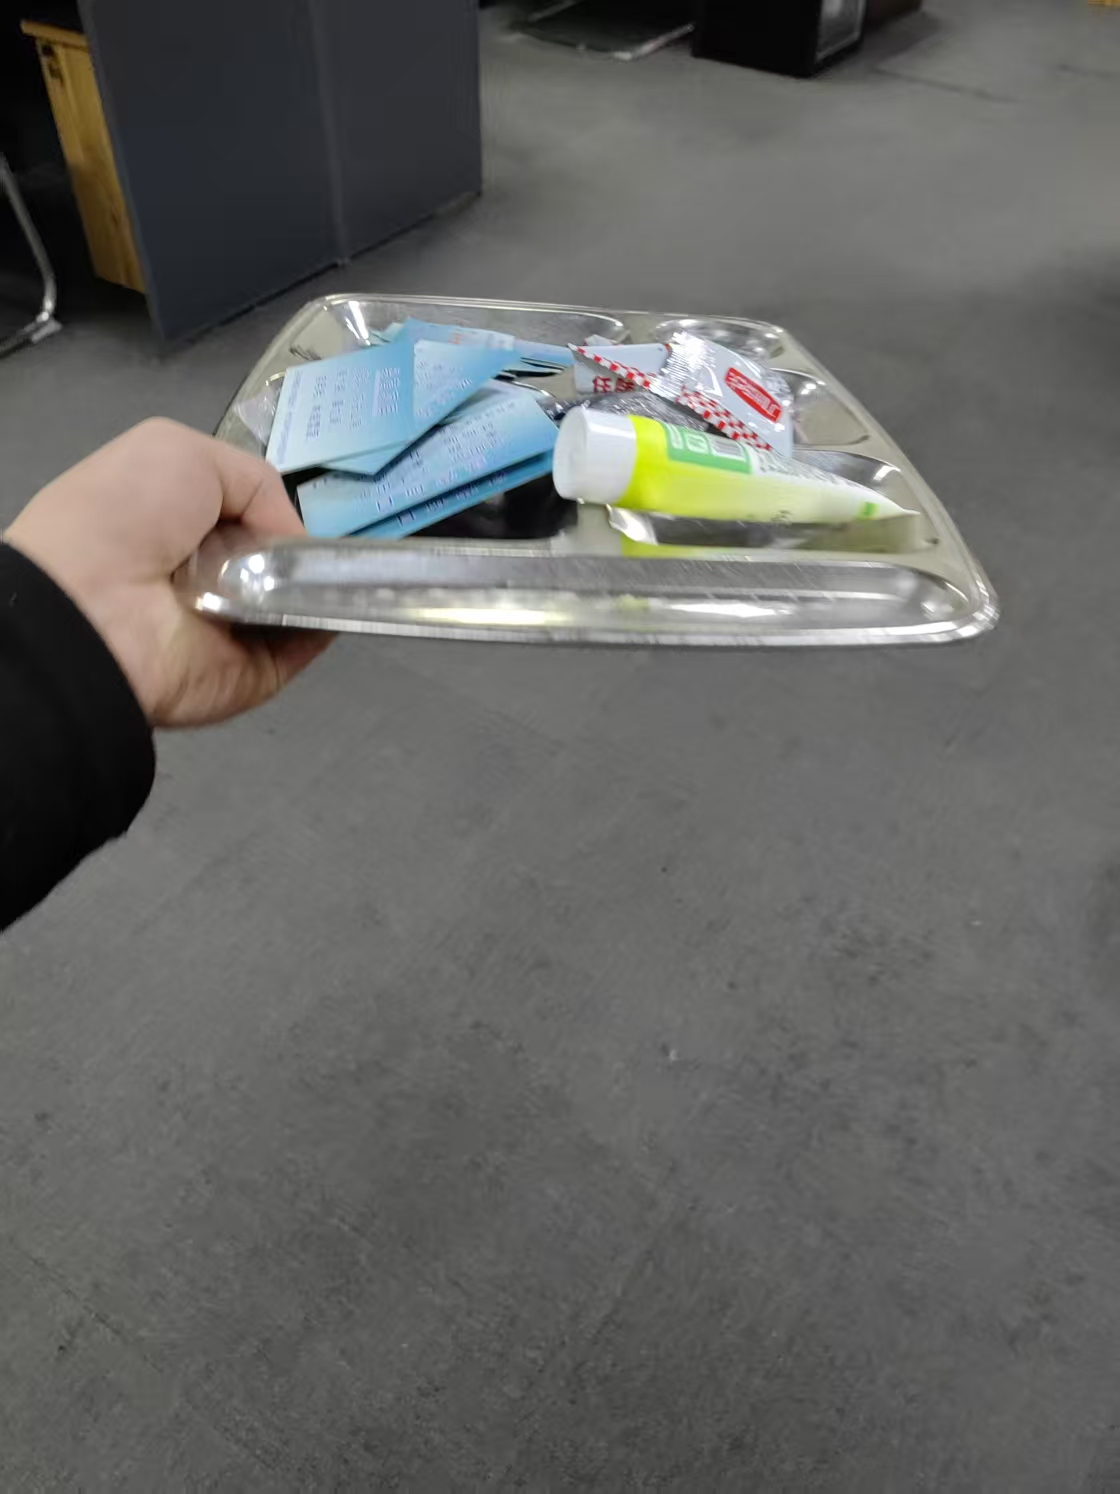plate: (173, 292, 1004, 652)
severe: (268, 318, 919, 541)
